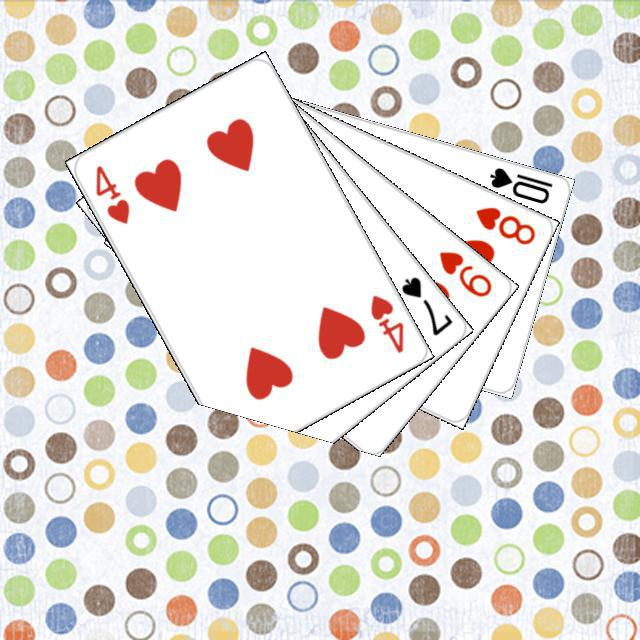10s: (484, 162, 554, 206)
4h: (90, 160, 132, 226), (365, 289, 406, 355)
7s: (396, 271, 454, 338)
8h: (470, 201, 538, 247)
9h: (433, 246, 494, 299)
